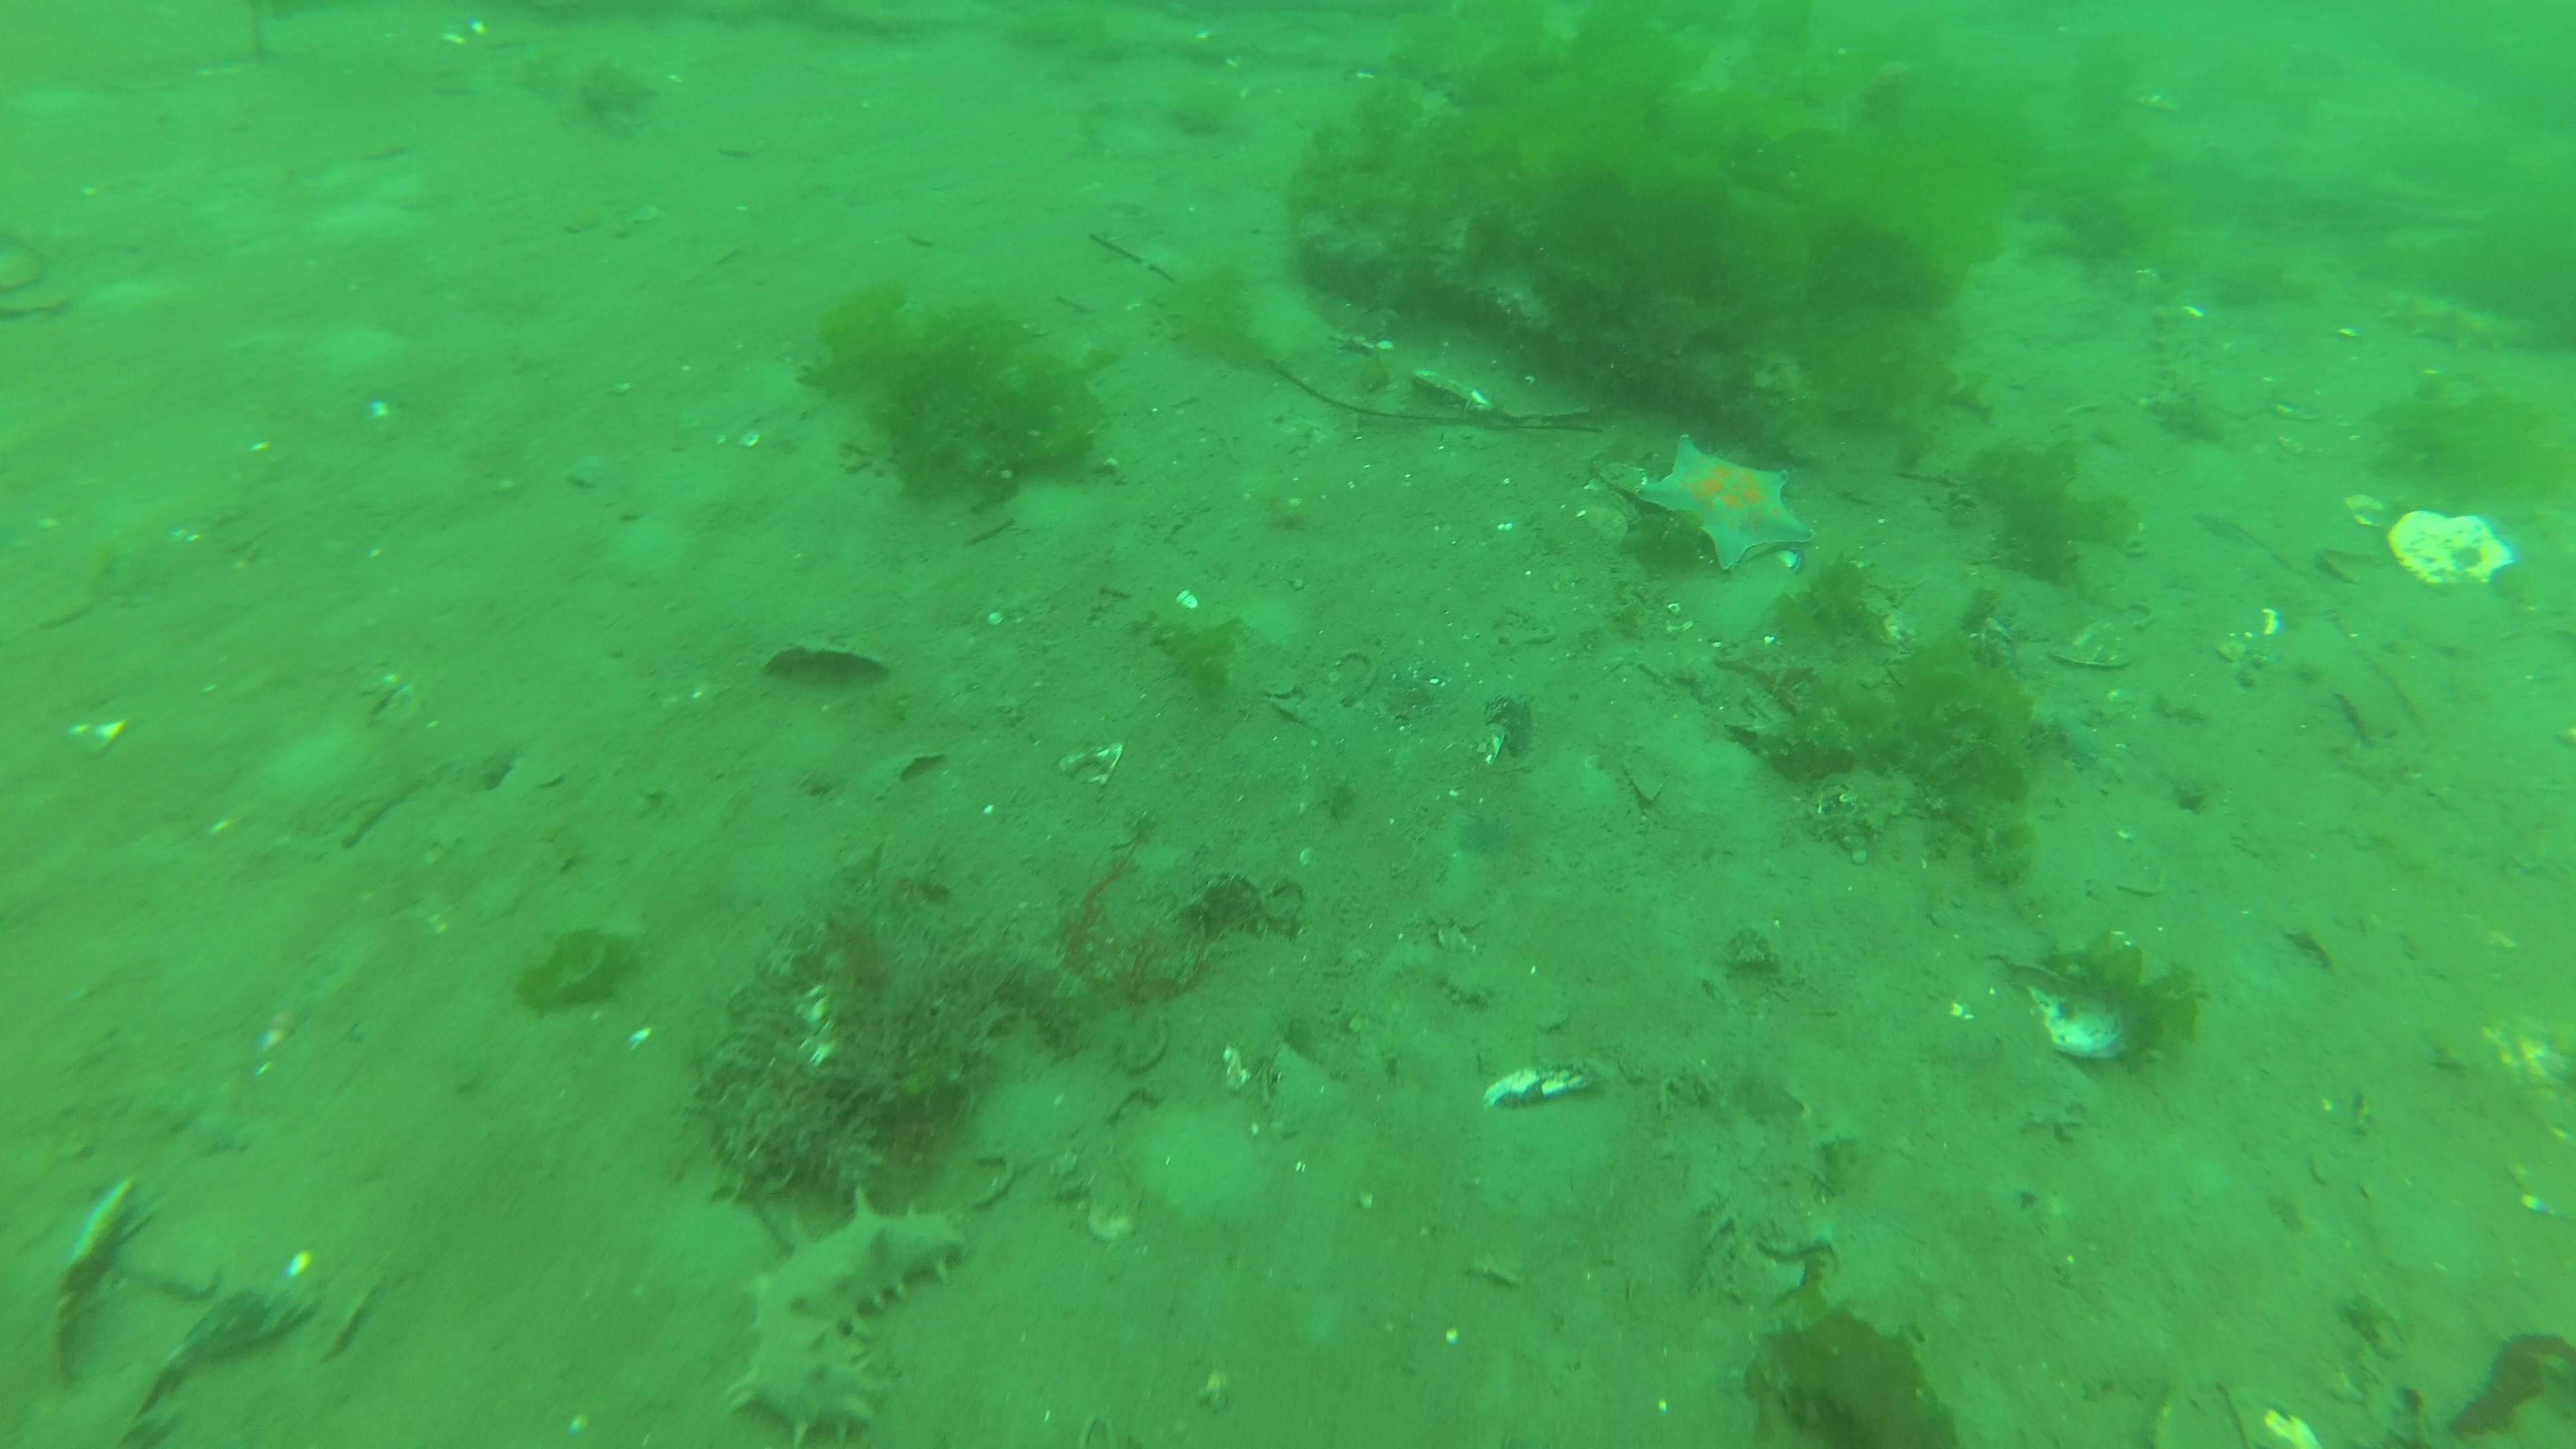holothurian: (724, 1180, 966, 1449), (2381, 292, 2530, 357)
scallop: (2385, 508, 2518, 586)
starfish: (1637, 432, 1819, 575)
